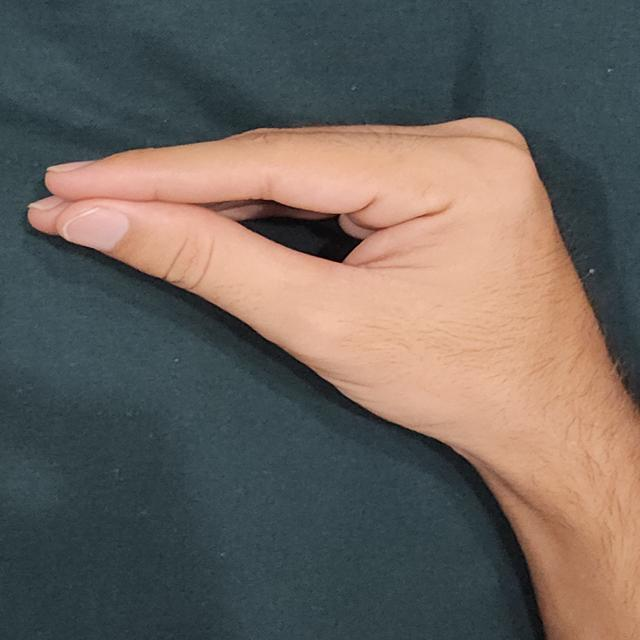ر: (20, 81, 640, 489)
